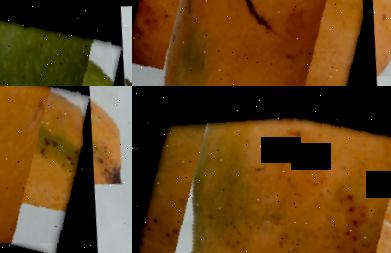PartiallyRipe: (132, 86, 391, 253)
Ripe: (132, 0, 376, 86), (0, 86, 94, 253)
Unripe: (0, 0, 127, 86)
